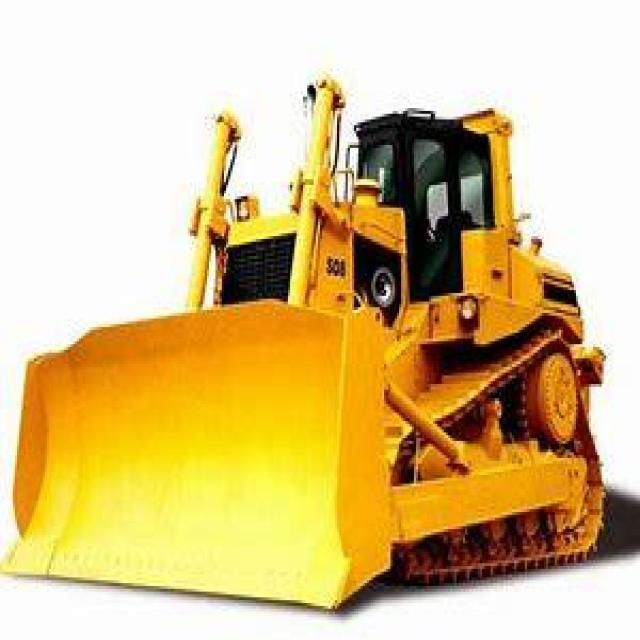buldozerpayloadergrader: (6, 82, 612, 608)
